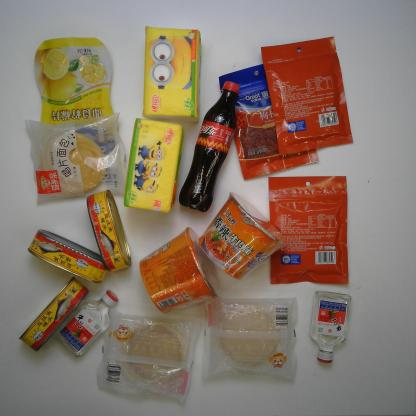Alcohol: (50, 286, 120, 360), (304, 289, 354, 366)
Canned Food: (15, 273, 91, 354), (22, 226, 108, 286), (82, 188, 136, 276)
Dessert: (93, 306, 207, 409), (20, 108, 130, 208), (200, 292, 301, 387)
Dried Fruit: (215, 61, 323, 183), (257, 32, 358, 158), (264, 173, 353, 289), (31, 32, 116, 130)
Drink: (175, 76, 247, 214)
Instant Noodles: (197, 185, 290, 283), (136, 223, 222, 316)
Tissue: (138, 22, 205, 125), (121, 115, 185, 218)
